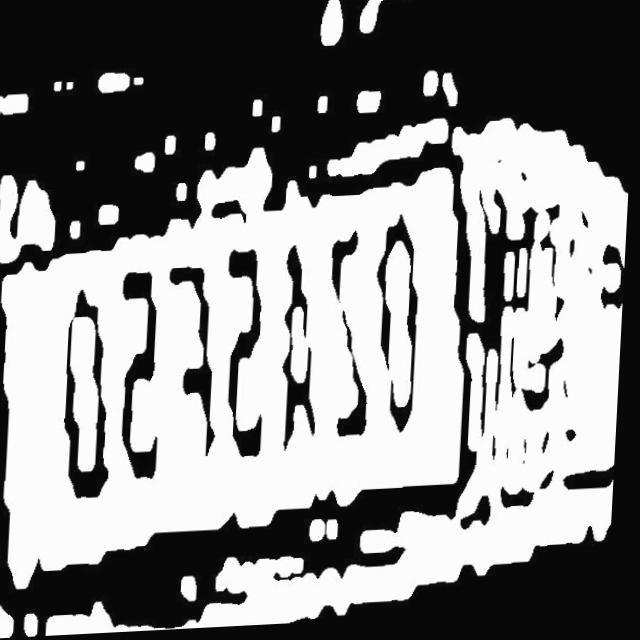0: (56, 281, 121, 508)
3: (224, 252, 276, 464)
5: (116, 267, 174, 486)
a: (279, 245, 328, 454)
f: (171, 260, 225, 472)
q: (372, 215, 432, 446)
z: (324, 232, 380, 451)
